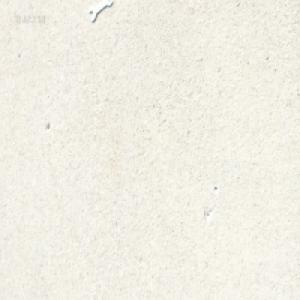Wrench: (88, 1, 112, 25)
